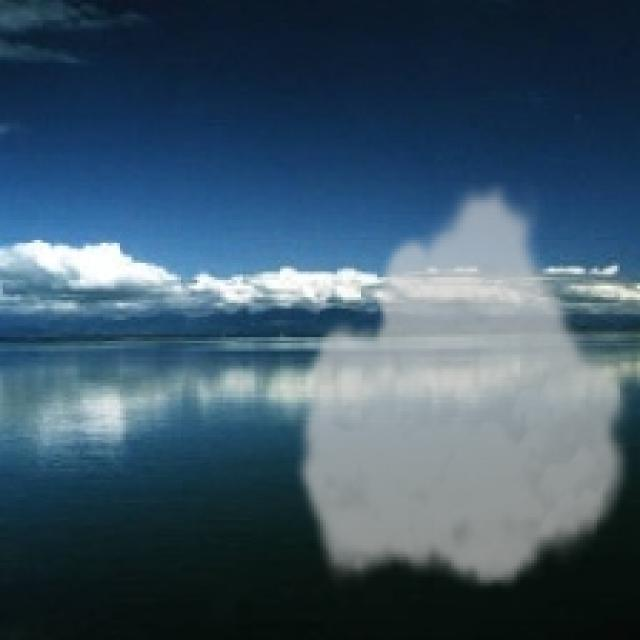Smoke: (294, 177, 637, 592)
